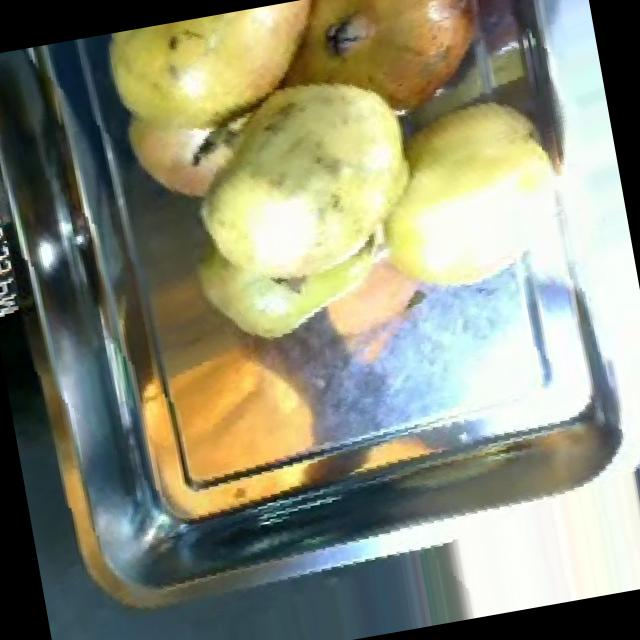fruit: (147, 36, 467, 358), (303, 0, 519, 138)
